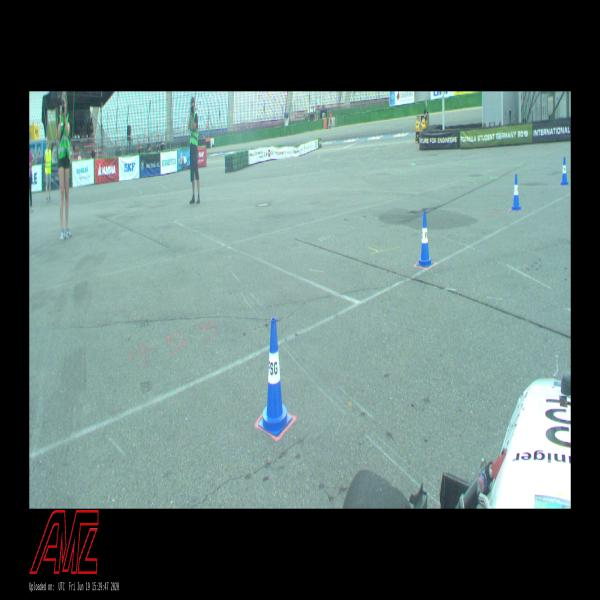blue_cone: (258, 317, 292, 436), (416, 210, 432, 266), (512, 174, 521, 210), (561, 157, 568, 185)
